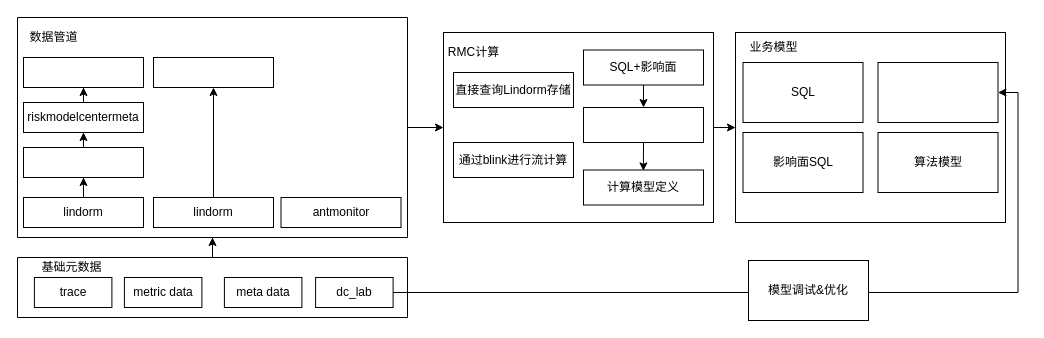
This 1044x338 diagram has some shape labels left out. Here are the shapes that lost their labels. From the top down, the centre of each, then its label:
(x=83, y=72): sls
(x=213, y=72): sofamq
(x=937, y=92): 聚合计算策略
(x=643, y=124): 代码配置化
(x=83, y=162): antq
